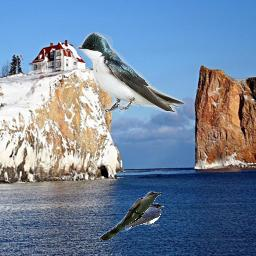Cuckoo: (99, 191, 162, 240)
Swallow: (76, 31, 186, 115), (120, 203, 164, 233)
